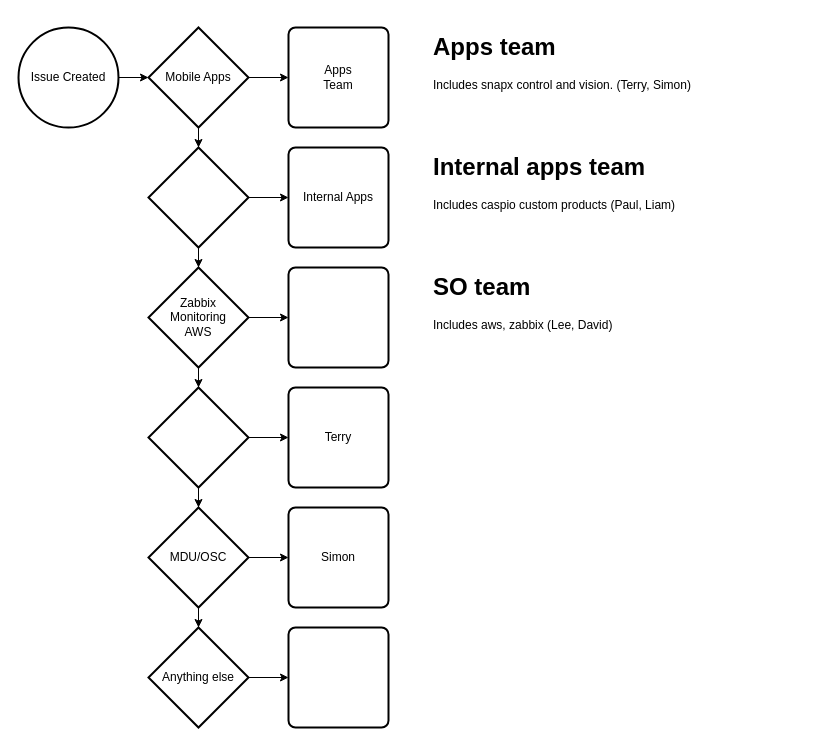
This 815x745 diagram has some shape labels left out. The shapes that lost their labels are listed below. From the top down, each one's box as (x1, y1, x2, y2) in pixels, then its label:
(147, 146, 249, 248): Marquee Quoting Vacation Caspio
(287, 266, 389, 368): SO Team
(147, 386, 249, 488): Choice ILP
(287, 626, 389, 728): Snap Team
